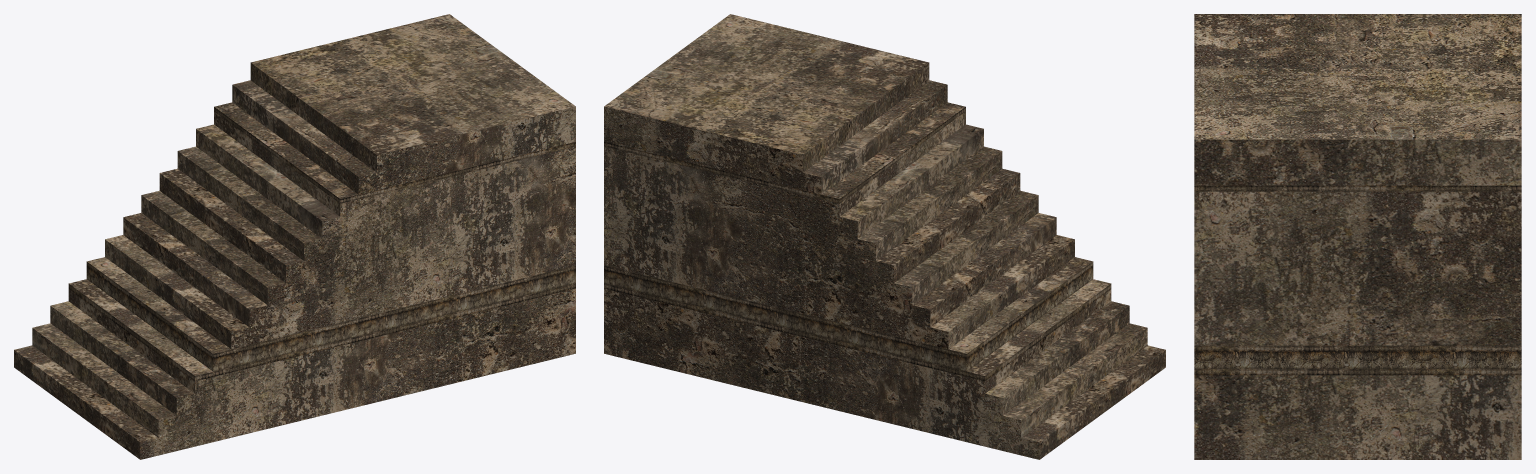
The model's file is materials_5_stairblock_0.fbx.
3 views of the same model, side by side, from view 1: azimuth 30°, elevation 25°; view 2: azimuth 150°, elevation 25°; view 3: azimuth 270°, elevation 25° (orthographic). The views are drawn at different scales.
Parts seen in each view (by area): view 1: materials_5_stairblock_0; view 2: materials_5_stairblock_0; view 3: materials_5_stairblock_0.
Boxes of the visible parts, <box> form: materials_5_stairblock_0: <box>14,14,575,459</box>; materials_5_stairblock_0: <box>604,14,1165,459</box>; materials_5_stairblock_0: <box>1194,14,1521,459</box>.
Bounding box in the file's own units: 418 × 227 × 210.
